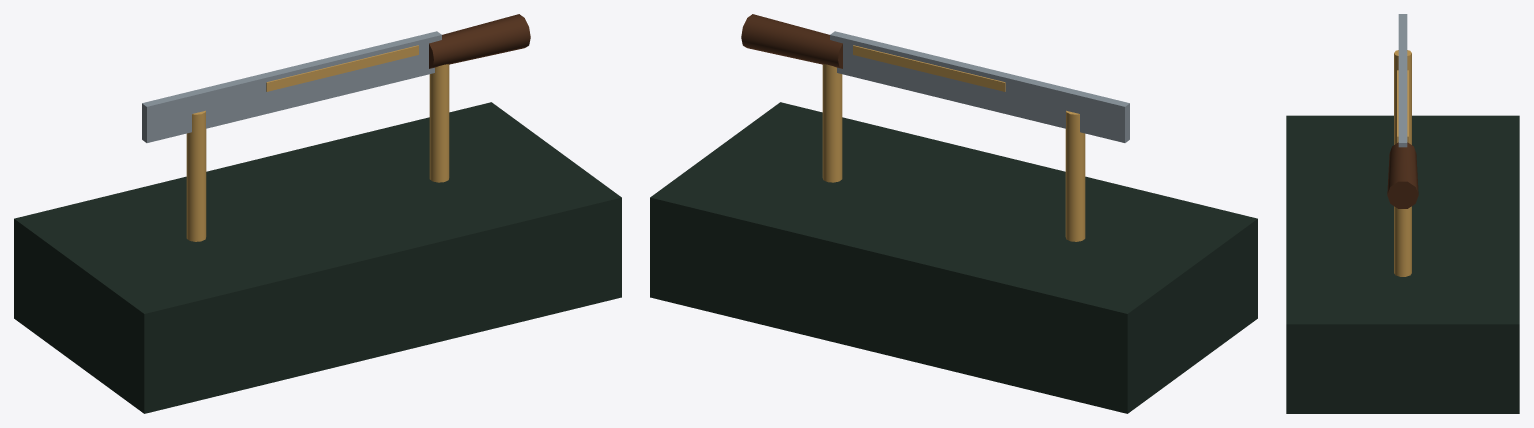
File: weapon-mandau-kalimantan.glb
The picture shows the model from 3 angles, left to right: view 1: azimuth 30°, elevation 25°; view 2: azimuth 150°, elevation 25°; view 3: azimuth 270°, elevation 25°; orthographic projection. The views are drawn at different scales.
Size of the model in its own units: 1.1 by 0.54 by 0.52.
